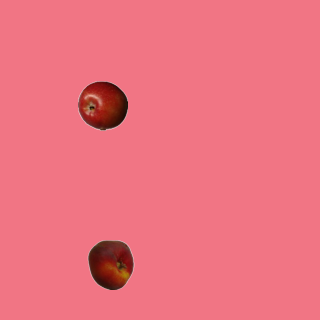Apple Braeburn: (77, 80, 127, 130)
Nectarine Flat: (85, 239, 135, 289)
